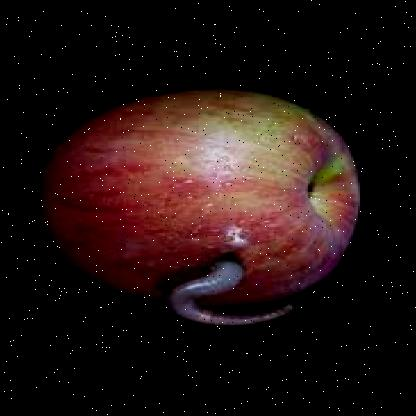damaged_apple: (39, 94, 357, 324)
